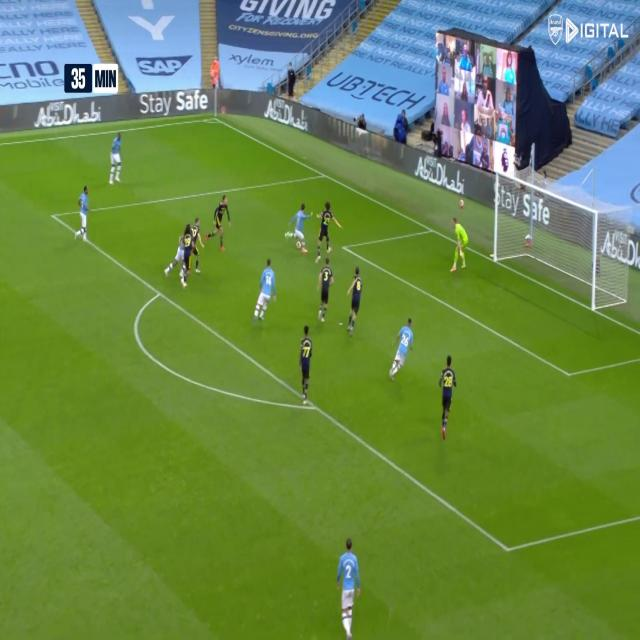Ball: (293, 238, 302, 252)
GoalKeeper: (451, 218, 470, 274)
TEAM 1: (206, 195, 230, 258), (440, 359, 458, 439), (316, 201, 342, 254), (347, 268, 364, 336), (300, 325, 314, 403), (317, 264, 332, 324), (185, 224, 192, 288)
TEAM 2: (336, 538, 362, 640), (251, 258, 276, 326), (389, 318, 415, 381), (285, 203, 309, 255), (166, 220, 185, 279), (76, 186, 89, 240), (112, 134, 125, 186), (192, 216, 203, 272)
